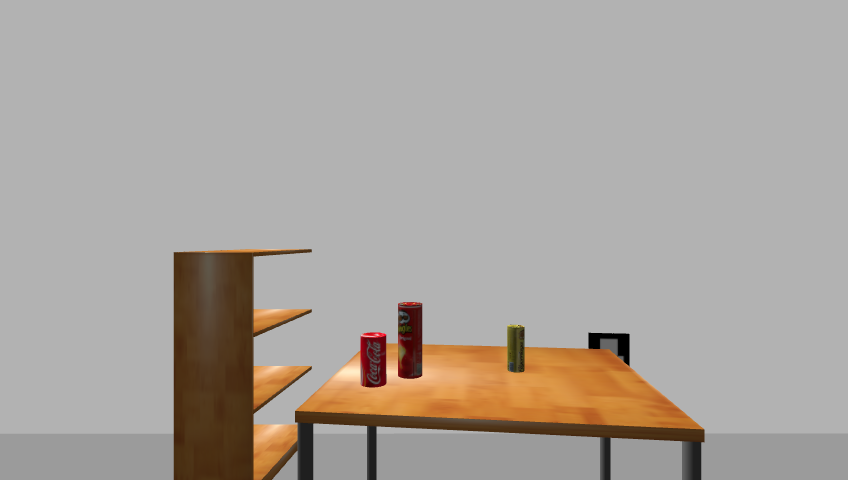aruco marker: (584, 331, 634, 370)
biscuits pack: (506, 324, 526, 374)
bookshelf: (168, 246, 319, 480)
coke can: (359, 332, 387, 389)
dinner table: (289, 341, 713, 480)
pringles can: (397, 301, 424, 380)
